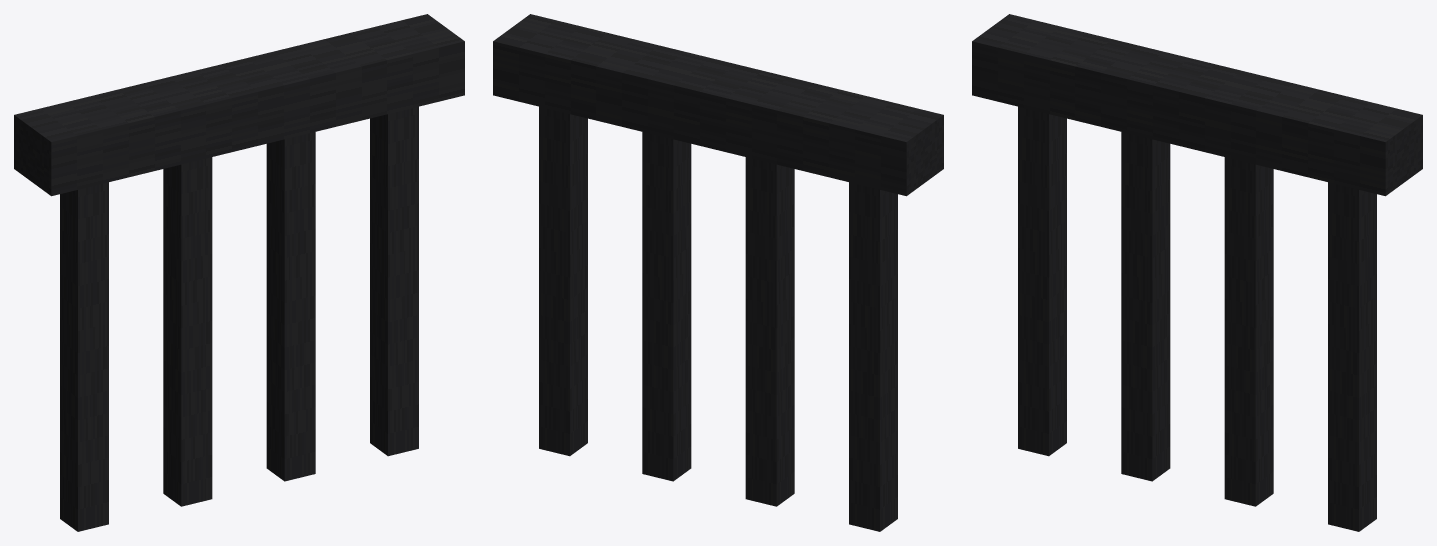
The model's file is level.obj.
3 renders of one model, left to right at view 1: azimuth 30°, elevation 25°; view 2: azimuth 150°, elevation 25°; view 3: azimuth 330°, elevation 25°, orthographic.
Visible parts, largest first — view 1: railing_baluster_black_level; view 2: railing_baluster_black_level; view 3: railing_baluster_black_level.
Part boxes in pixels (x1,y1,x2,y2): railing_baluster_black_level: [14, 14, 464, 531]; railing_baluster_black_level: [493, 14, 943, 531]; railing_baluster_black_level: [972, 14, 1422, 531].
Bounding box in the file's own units: 1 × 0.9375 × 0.1562.
